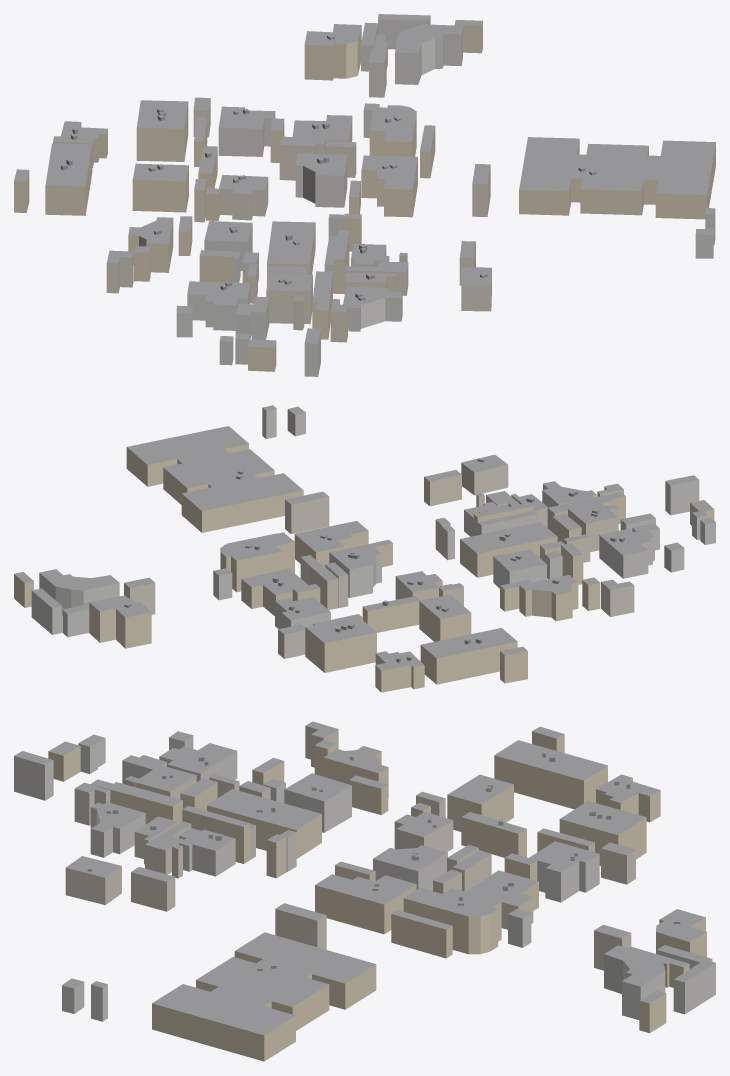
The model's file is building_-3_-6.glb.
3 views of the same model, one above another, from view 1: azimuth 30°, elevation 25°; view 2: azimuth 150°, elevation 25°; view 3: azimuth 270°, elevation 25° (orthographic). The views are drawn at different scales.
Parts seen in each view (by area): view 1: roof, sandstone, concrete_light, concrete_warm; view 2: roof, sandstone, concrete_light, concrete_warm; view 3: roof, sandstone, concrete_light, concrete_warm.
Part boxes in pixels (left/top/right/bottom): roof: left=14, top=14, right=715, bottom=347; sandstone: left=14, top=21, right=715, bottom=371; concrete_light: left=176, top=17, right=715, bottom=376; concrete_warm: left=106, top=51, right=491, bottom=342; roof: left=14, top=405, right=715, bottom=670; sandstone: left=14, top=443, right=714, bottom=692; concrete_light: left=31, top=408, right=715, bottom=637; concrete_warm: left=124, top=463, right=634, bottom=658; roof: left=14, top=721, right=715, bottom=1035; sandstone: left=48, top=731, right=706, bottom=1061; concrete_light: left=14, top=735, right=715, bottom=1021; concrete_warm: left=65, top=726, right=635, bottom=970.
Bounding box in the file's own units: 271 × 16.95 × 261.
